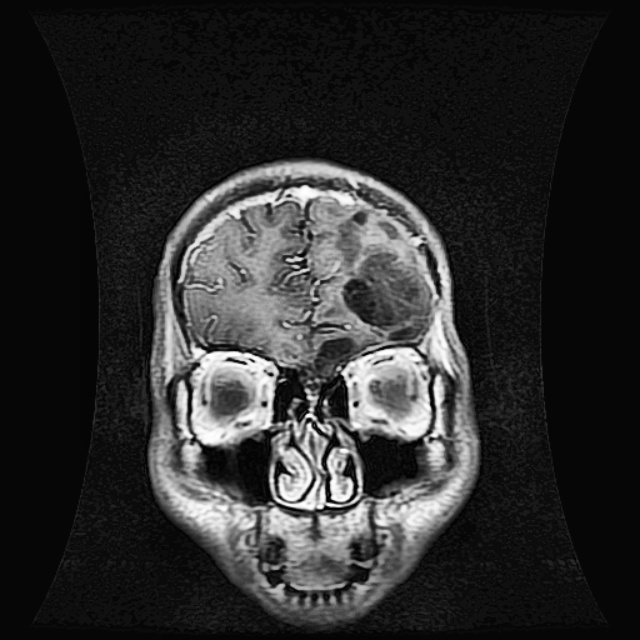Meningioma: (345, 254, 433, 342)
